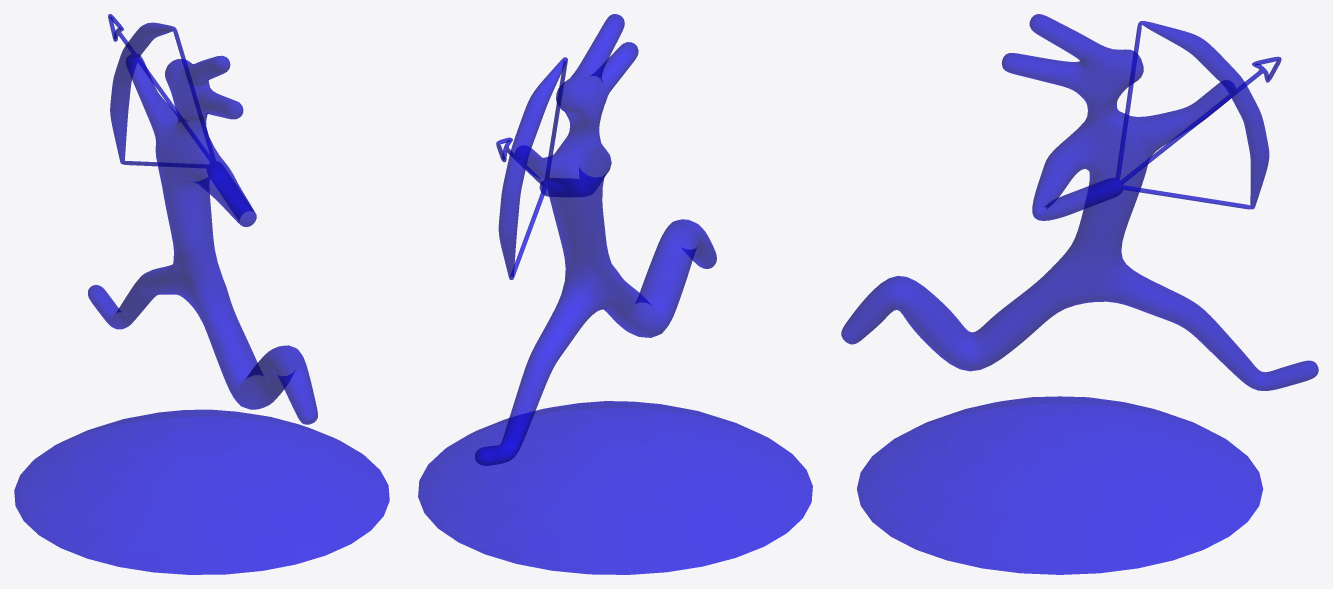
File: nanabush.glb
3 renders of one model, left to right at view 1: azimuth 30°, elevation 25°; view 2: azimuth 150°, elevation 25°; view 3: azimuth 270°, elevation 25°, orthographic. The views are drawn at different scales.
Visible parts, largest first — view 1: Mound, Nanaboozhoo.001; view 2: Mound, Nanaboozhoo.001; view 3: Mound, Nanaboozhoo.001.
Boxes of the visible parts, x1=… form: Mound: x1=14, y1=409, x2=389, y2=574; Nanaboozhoo.001: x1=88, y1=14, x2=317, y2=424; Mound: x1=418, y1=401, x2=812, y2=574; Nanaboozhoo.001: x1=475, y1=14, x2=716, y2=465; Mound: x1=857, y1=396, x2=1263, y2=574; Nanaboozhoo.001: x1=841, y1=14, x2=1318, y2=390.
Size of the model in its own units: 9.49 by 12.35 by 11.15.
